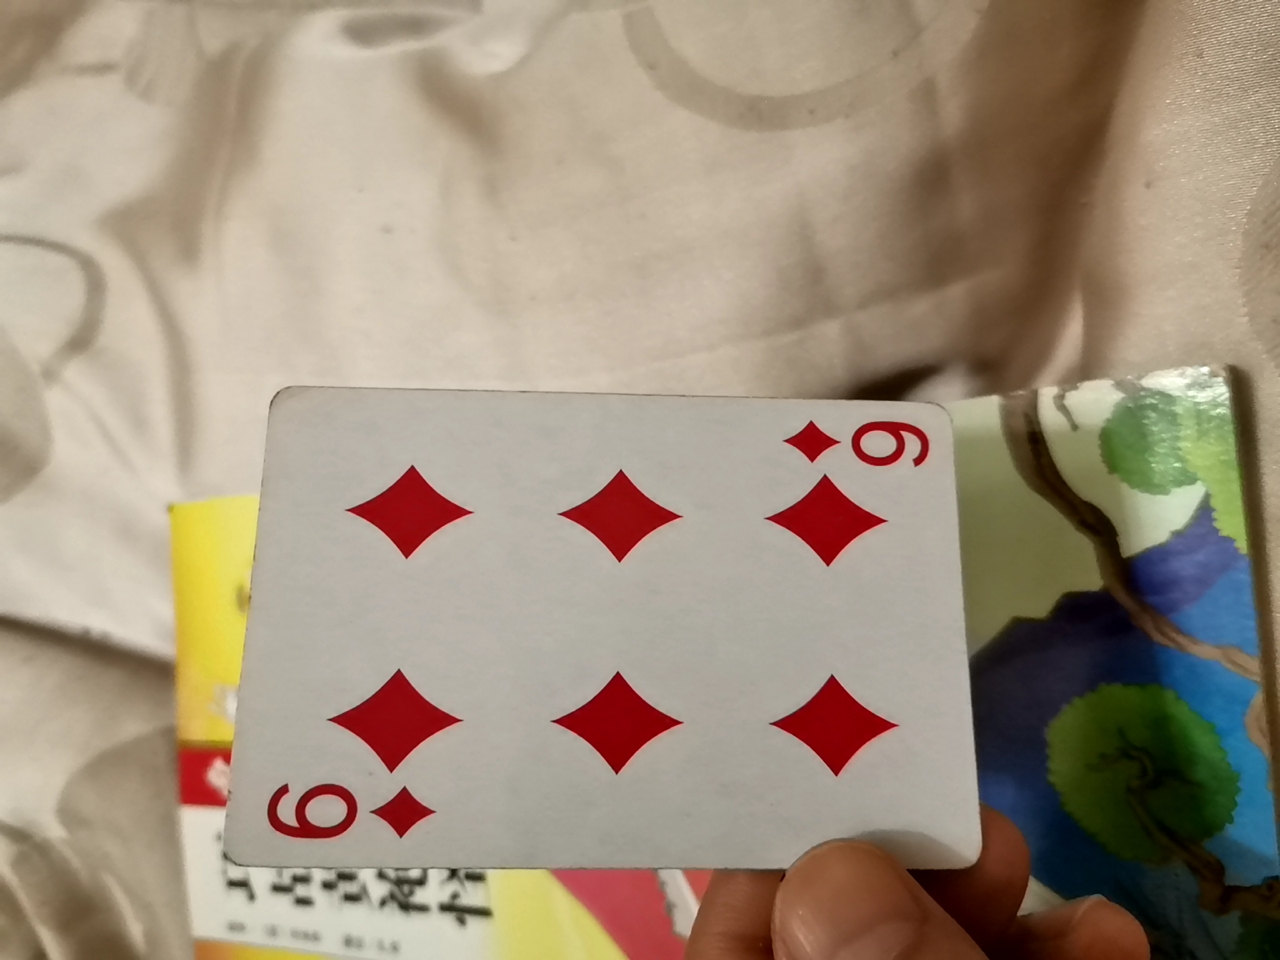fk 6: (214, 394, 1001, 890)
